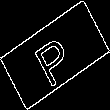P_NW: (30, 24, 80, 86)
